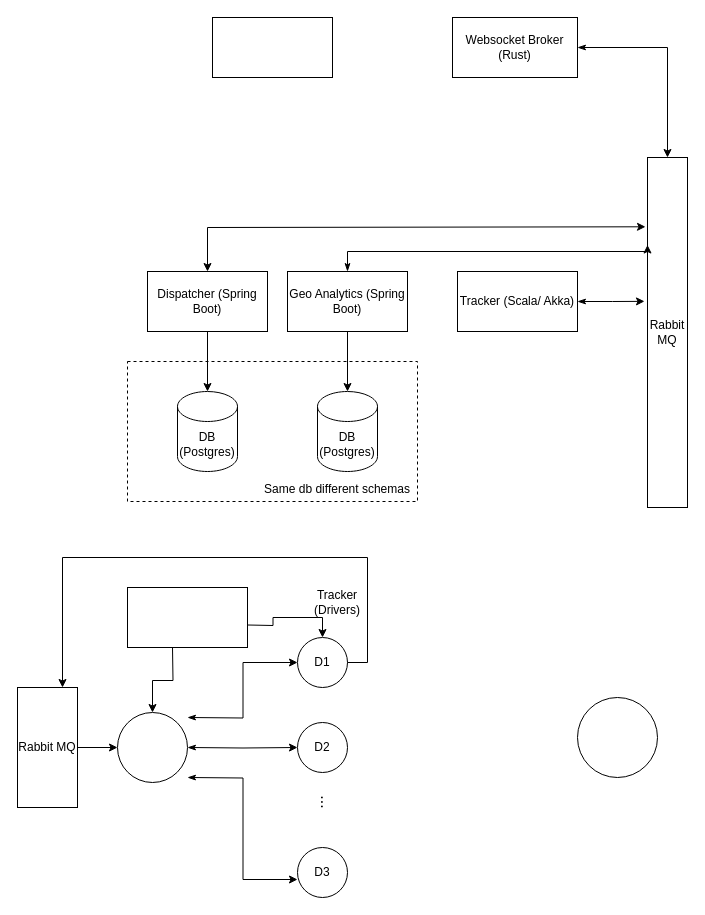
Some shapes in this 705 by 915 pixel diagram are drawn without their labels. Each missing label, with the box of its shape:
Driver manager: (116, 712, 188, 782)
Http Proxy (Rust): (212, 16, 332, 78)
Jobs: (576, 696, 658, 778)
REst: (126, 586, 248, 648)
